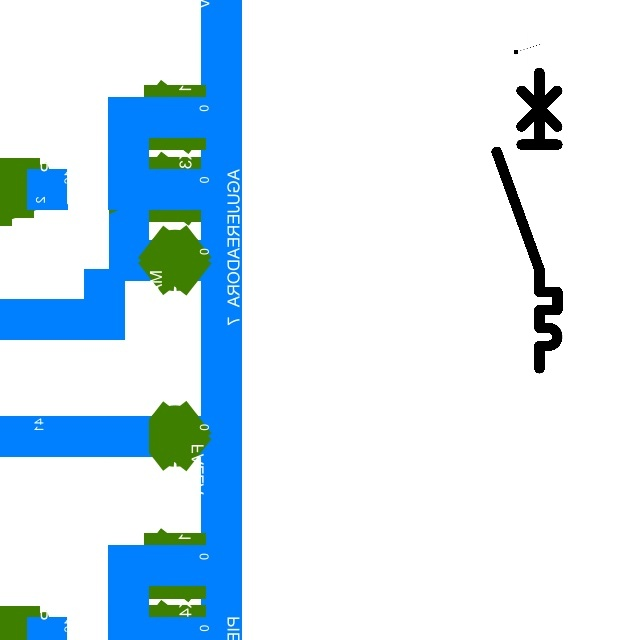interruptor_termomagnetico: (489, 65, 565, 376)
